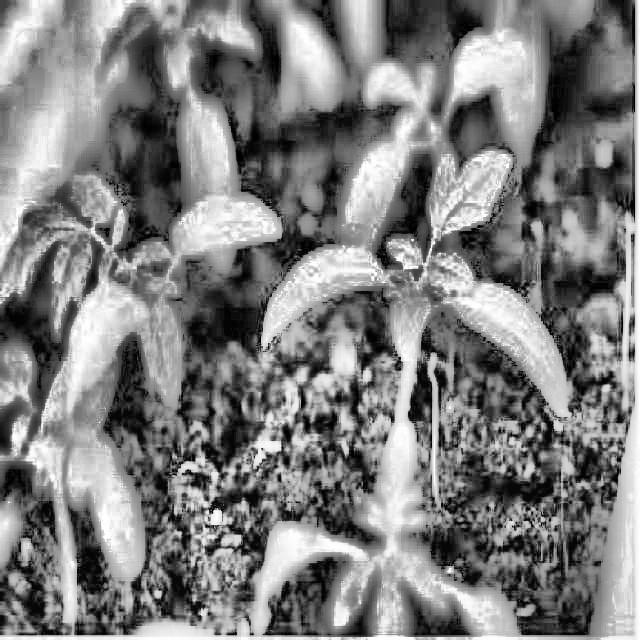plants: (246, 140, 603, 476), (0, 140, 177, 637), (228, 367, 520, 636), (354, 0, 591, 172), (93, 0, 278, 88)
